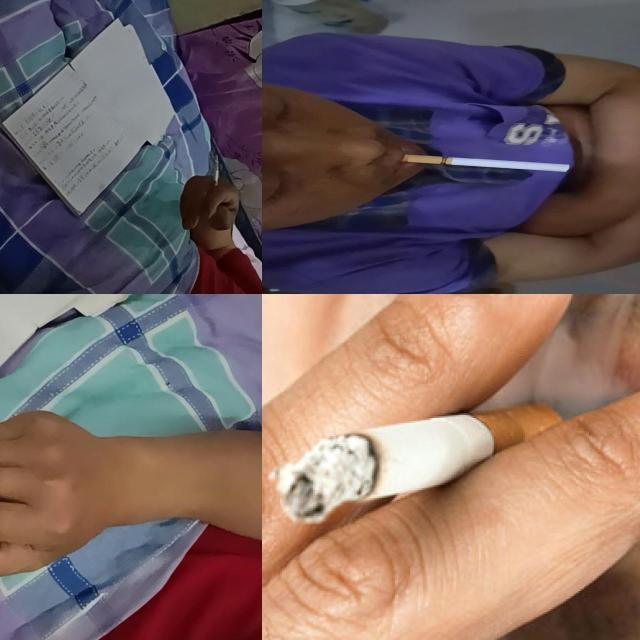smoking: (275, 403, 565, 525), (403, 154, 572, 172), (213, 156, 219, 192)
